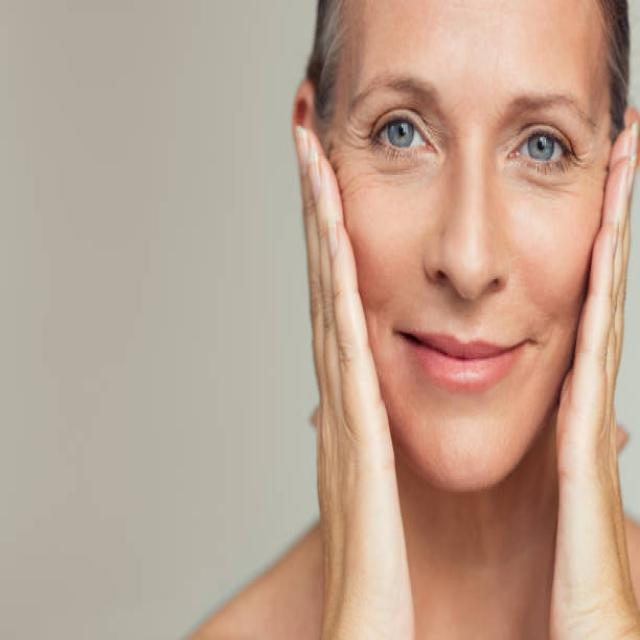dry: (320, 102, 373, 254), (569, 145, 613, 254)
